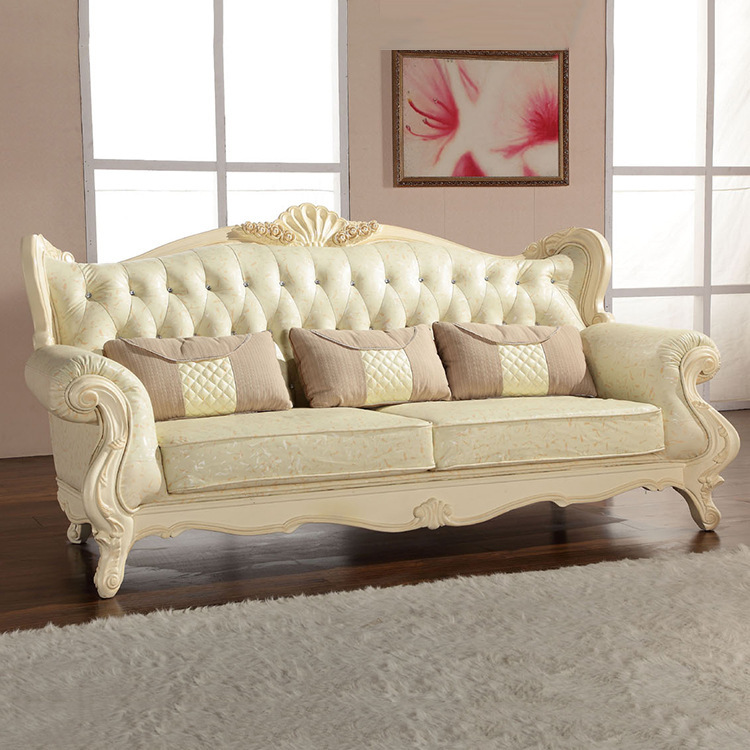Carving Chair: (25, 223, 737, 562)
